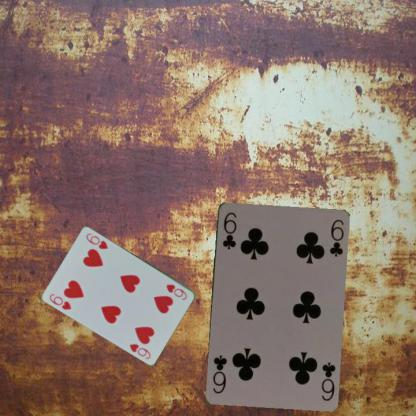6c: (219, 209, 238, 250), (318, 360, 336, 402)
6h: (47, 291, 73, 311), (164, 281, 188, 301)
